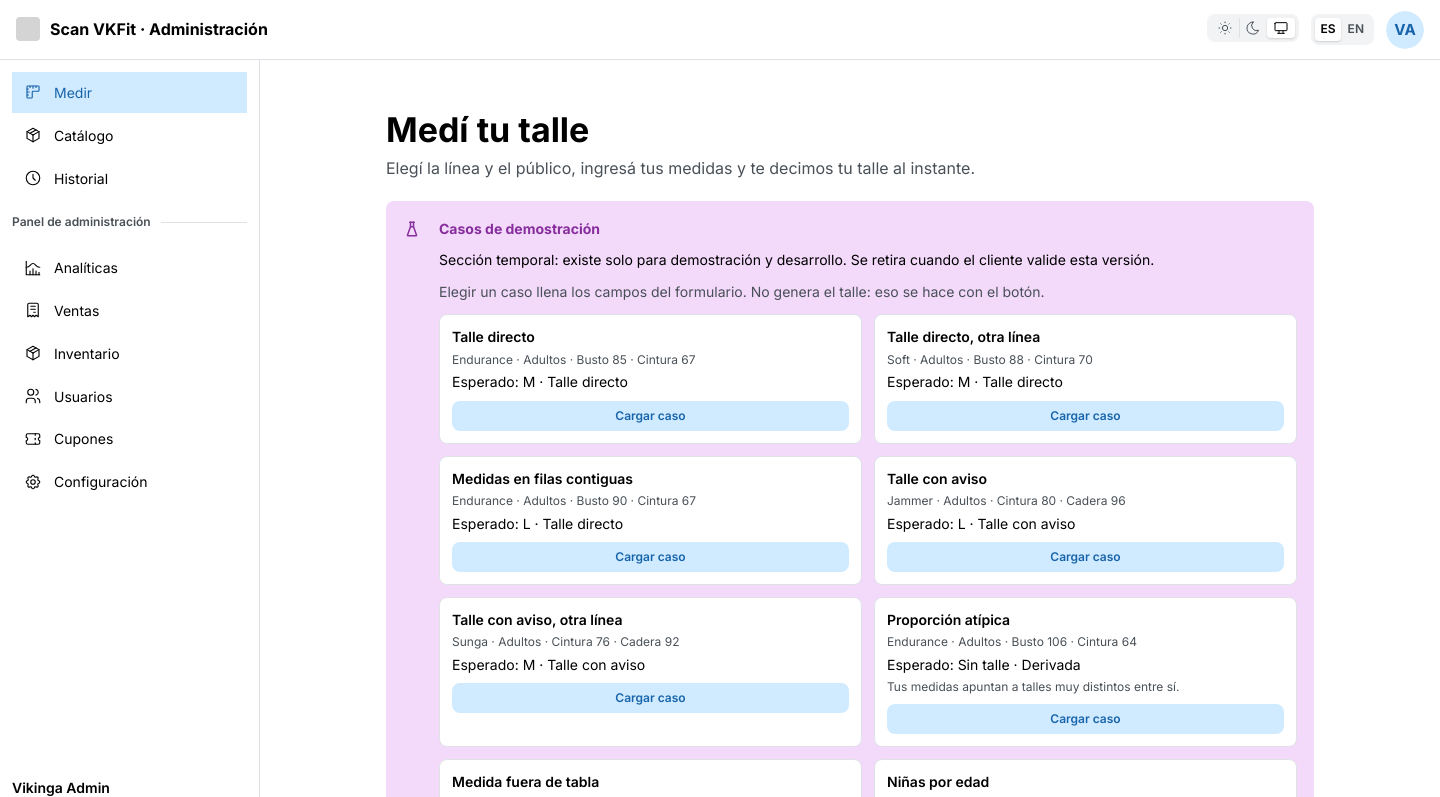
it: caso adjacentRows contra el motor › llena el formulario con sus medidas y devuelve el talle esperado
Click the button "Cargar caso" below "Busto 90 · Cintura 67".
click(650, 557)  # box [452,542,849,572]
(page scrolled)
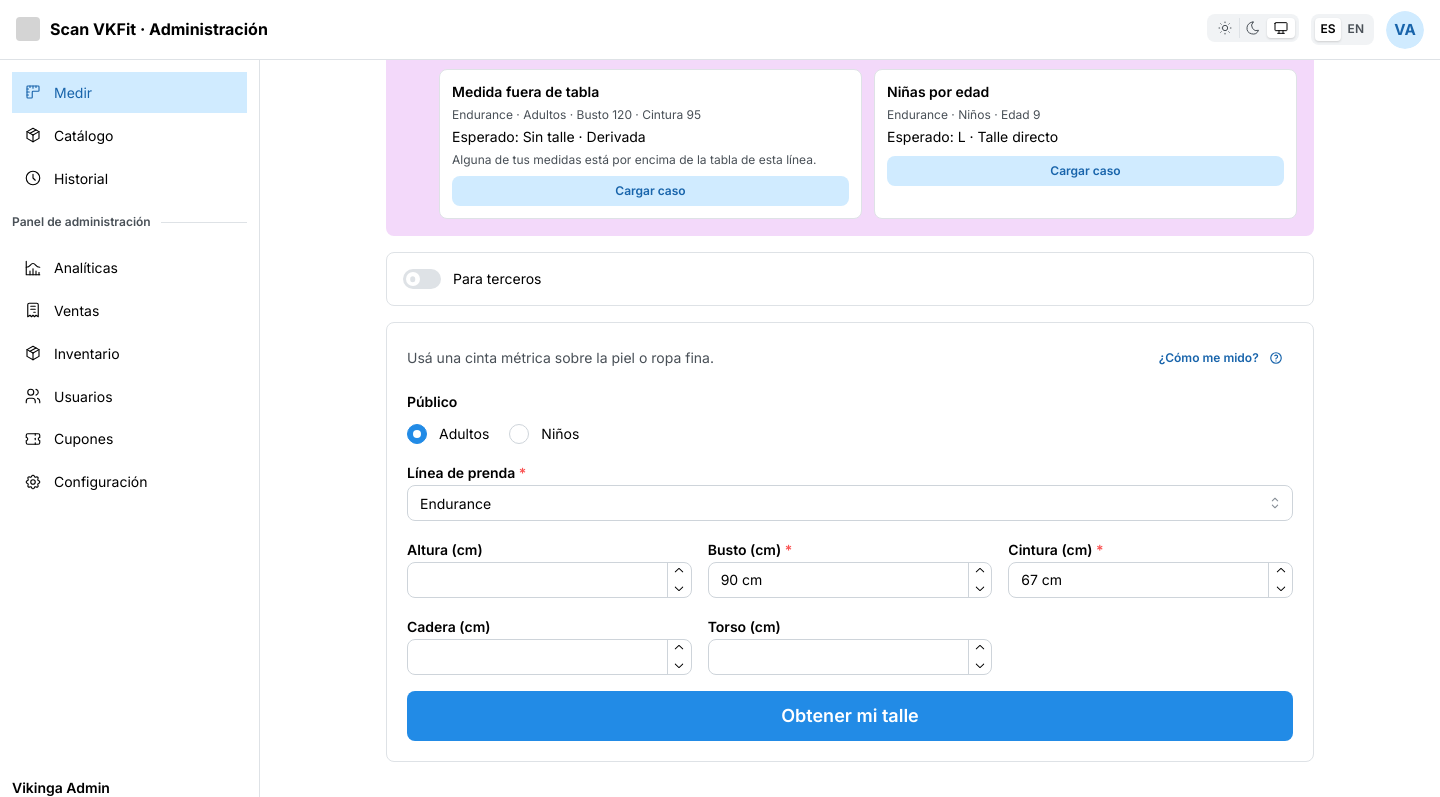
Check: the field labelled "Cintura (cm) *" holds "67 cm", box [1008,562,1293,598]
Check: the dropdown labelled "Línea de prenda *" holds "Endurance", box [407,485,1293,521]
Check: the radio button labelled "Adultos" is checked, box [407,424,427,444]
// Generar a mano devuelve lo que la pantalla declaró como esperado.
Click the button "Obtener mi talle".
click(850, 716)  # box [407,691,1293,741]
(page scrolled)
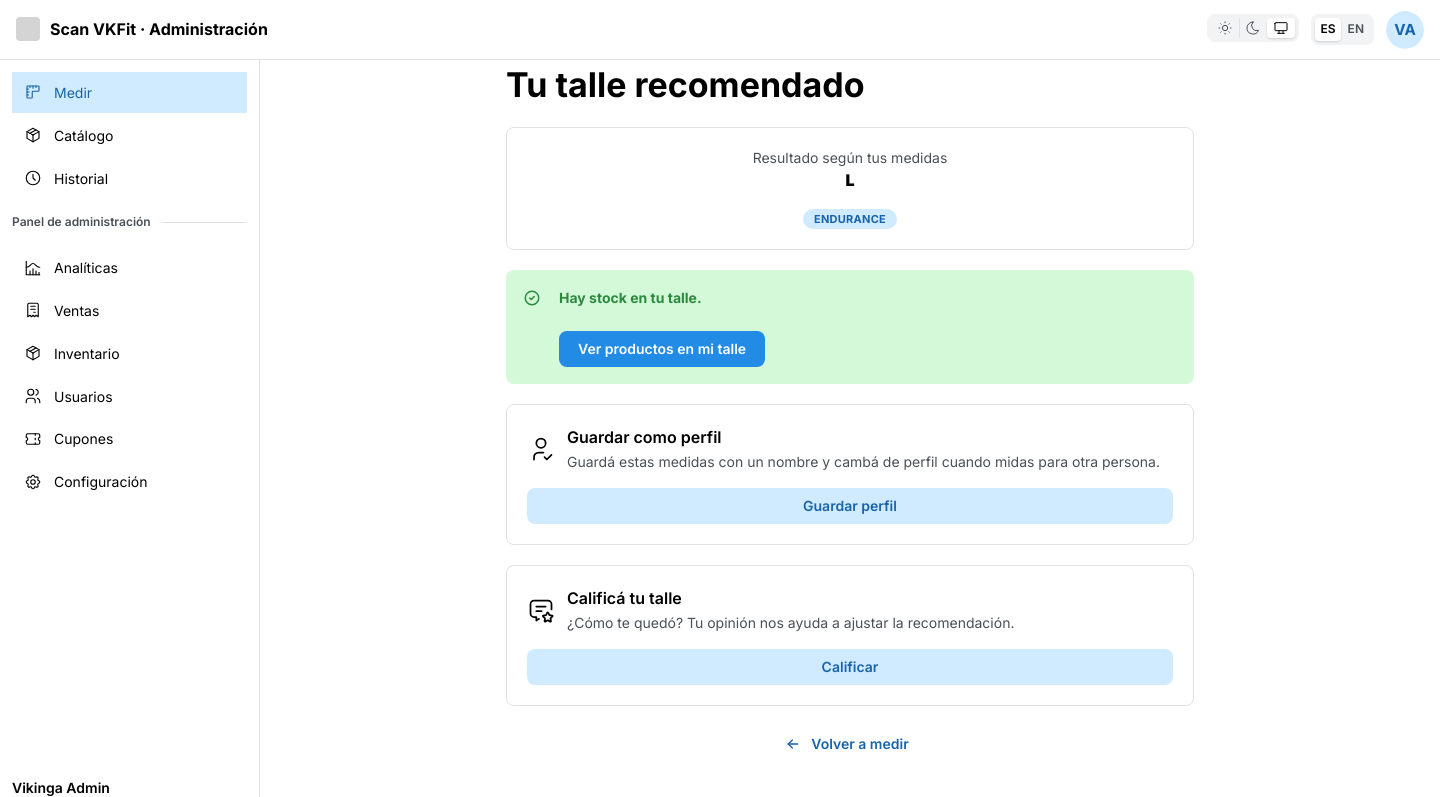
Check: the text "L" is shown, box [846,170,854,190]
Check: the heading "Tu talle recomendado" is shown, box [506,64,864,105]
